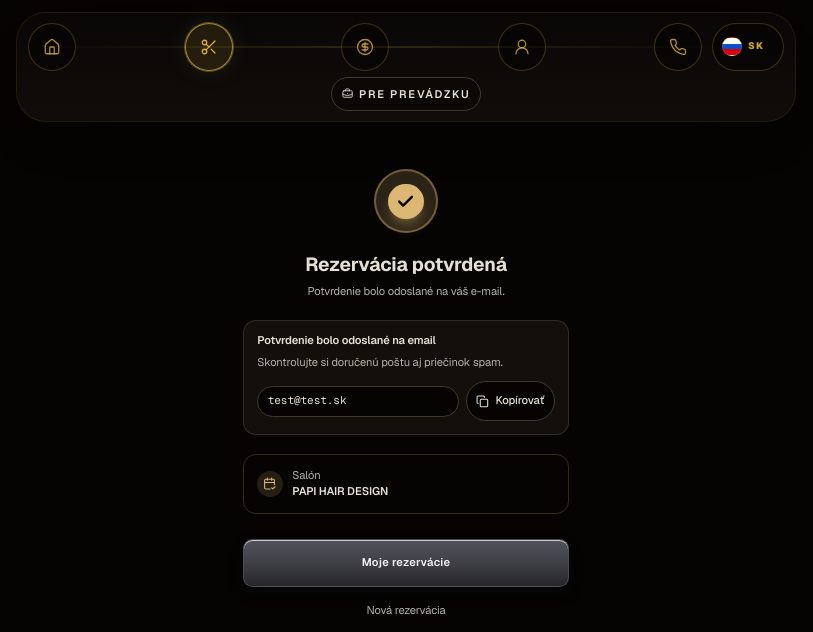
Scenario: BookingSuccess › renders confirmation email with copy action
Expected: the text "test@test.sk" is shown, [257,386,460,417]
Step 1. Click the button "Kopírovať" → click(510, 401), box [466,381,555,421]
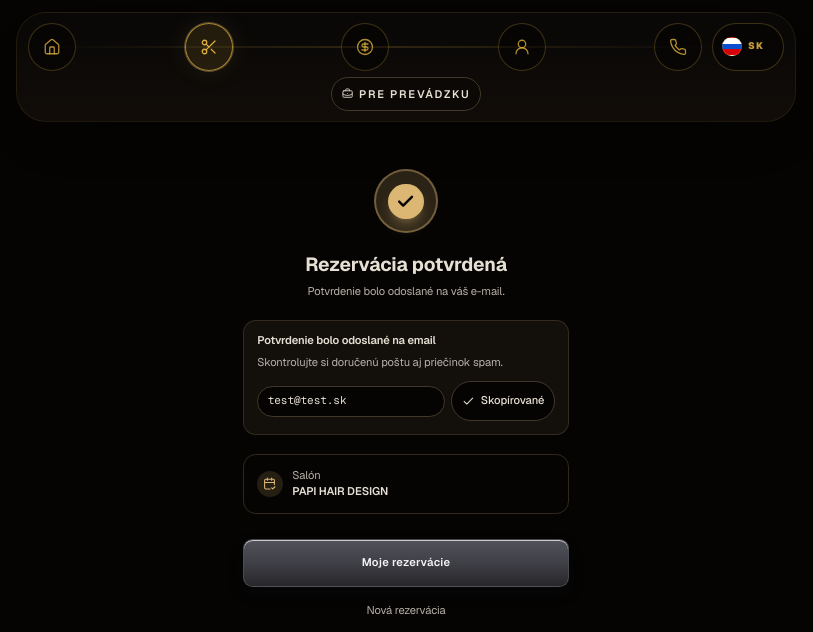
Expected: the button "Skopírované" is shown, [451,381,555,421]
